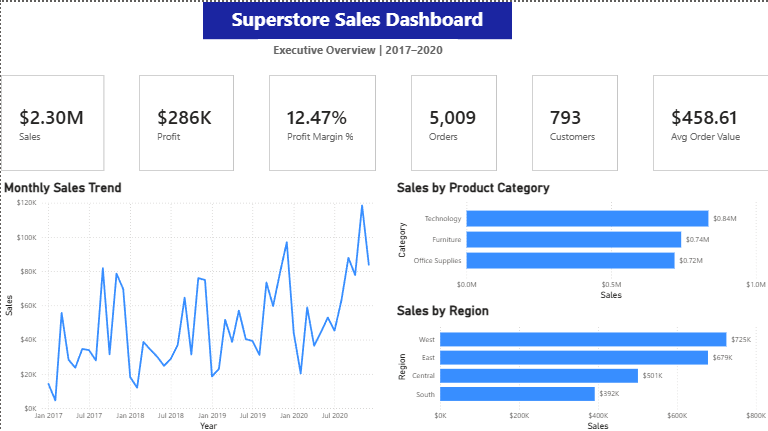

What the dashboard file says about the page in this screenshot:
{"tool":"powerbi","page":{"name":"Executive Dashboard","canvas":[1280,720],"ordinal":0},"visuals":[{"type":"cardVisual","fields":{"Data":["superstore_cleaned.Profit Margin %"]},"box":[446.7,121.7,178.3,160],"z":0},{"type":"cardVisual","fields":{"Data":["superstore_cleaned.Total Profit"]},"box":[230,121.7,158.3,160],"z":1000},{"type":"cardVisual","fields":{"Data":["superstore_cleaned.Total Customers"]},"box":[885,121.7,143.3,160],"z":2000},{"type":"cardVisual","fields":{"Data":["superstore_cleaned.Average Order Value"]},"box":[1086.7,121.7,193.3,160],"z":3000},{"type":"cardVisual","fields":{"Data":["superstore_cleaned.Total Orders"]},"box":[683.3,121.7,143.3,160],"z":4000},{"type":"cardVisual","fields":{"Data":["superstore_cleaned.Total Sales"]},"box":[0,121.7,171.7,160],"z":5000},{"type":"lineChart","title":"Monthly Sales Trend","fields":{"Y":["superstore_cleaned.Total Sales"],"Category":["superstore_cleaned.Month Year.Variation.Date Hierarchy.Year","superstore_cleaned.Month Year.Variation.Date Hierarchy.Month"]},"box":[0,296.7,640,423.3],"z":6000},{"type":"clusteredBarChart","title":"Sales by Region","fields":{"Y":["superstore_cleaned.Total Sales"],"Category":["superstore_cleaned.Region"]},"box":[655,501.7,625,218.3],"z":7000},{"type":"clusteredBarChart","title":"Sales by Product Category","fields":{"Category":["superstore_cleaned.Category"],"Y":["superstore_cleaned.Total Sales"]},"box":[655,296.7,625,205],"z":8000},{"type":"textbox","box":[336.7,0,515,61.7],"z":9000},{"type":"textbox","box":[428.3,61.7,333.3,46.7],"z":10000}]}

Visuals, with their boxes in screenshot pixels (x1, y1, x2, y2), scaled from the page's 1280x720 canvas onto the 768x431 screenshot:
cardVisual - superstore_cleaned.Profit Margin %: pyautogui.locateOnScreen(268, 73, 375, 169)
cardVisual - superstore_cleaned.Total Profit: pyautogui.locateOnScreen(138, 73, 233, 169)
cardVisual - superstore_cleaned.Total Customers: pyautogui.locateOnScreen(531, 73, 617, 169)
cardVisual - superstore_cleaned.Average Order Value: pyautogui.locateOnScreen(652, 73, 767, 169)
cardVisual - superstore_cleaned.Total Orders: pyautogui.locateOnScreen(410, 73, 496, 169)
cardVisual - superstore_cleaned.Total Sales: pyautogui.locateOnScreen(0, 73, 103, 169)
"Monthly Sales Trend" lineChart: pyautogui.locateOnScreen(0, 178, 384, 430)
"Sales by Region" clusteredBarChart: pyautogui.locateOnScreen(393, 300, 767, 430)
"Sales by Product Category" clusteredBarChart: pyautogui.locateOnScreen(393, 178, 767, 300)
textbox: pyautogui.locateOnScreen(202, 0, 511, 37)
textbox: pyautogui.locateOnScreen(257, 37, 457, 65)
